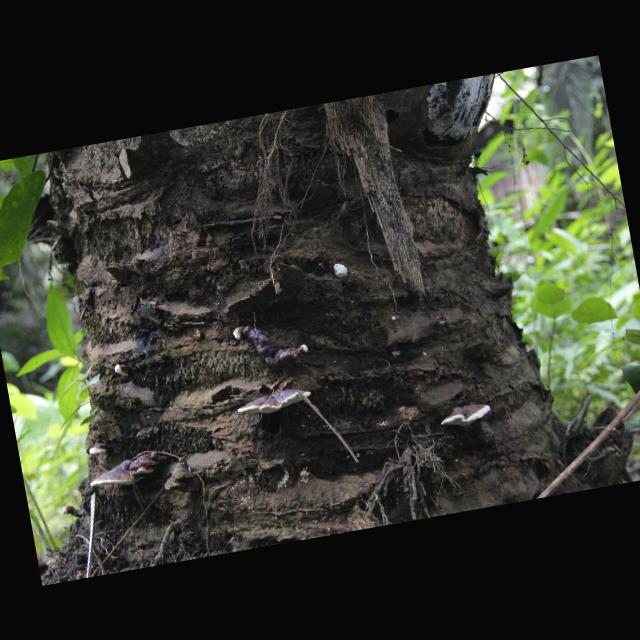ganoderma: (243, 318, 302, 376), (235, 385, 314, 420), (88, 457, 148, 492), (439, 401, 495, 431), (128, 449, 175, 477), (89, 442, 114, 457)
primordium: (334, 263, 350, 279), (114, 364, 131, 379), (233, 327, 245, 342), (62, 506, 75, 519), (300, 345, 311, 356), (393, 316, 398, 322)
